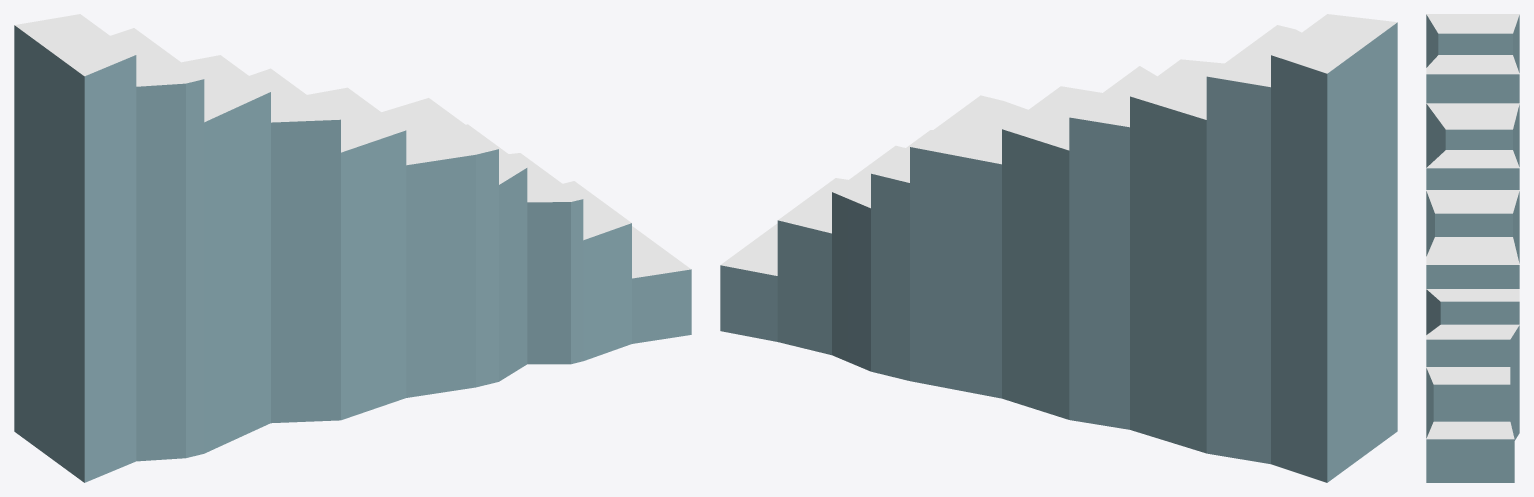
Rendered from Terrain_Modular_Tiles_Snow_Ice_Stairs_01.fbx.
The picture shows the model from 3 angles, left to right: view 1: azimuth 30°, elevation 25°; view 2: azimuth 150°, elevation 25°; view 3: azimuth 270°, elevation 25°; orthographic projection. The views are drawn at different scales.
Visible parts, largest first — view 1: Terrain_Modular_Tiles_Snow_Ice_Stairs_01; view 2: Terrain_Modular_Tiles_Snow_Ice_Stairs_01; view 3: Terrain_Modular_Tiles_Snow_Ice_Stairs_01.
Boxes of the visible parts, x1,y1,x2,y2 form: Terrain_Modular_Tiles_Snow_Ice_Stairs_01: [14, 14, 691, 482]; Terrain_Modular_Tiles_Snow_Ice_Stairs_01: [720, 14, 1397, 482]; Terrain_Modular_Tiles_Snow_Ice_Stairs_01: [1426, 14, 1519, 482].
Size of the model in its own units: 148 by 94.49 by 29.53.
